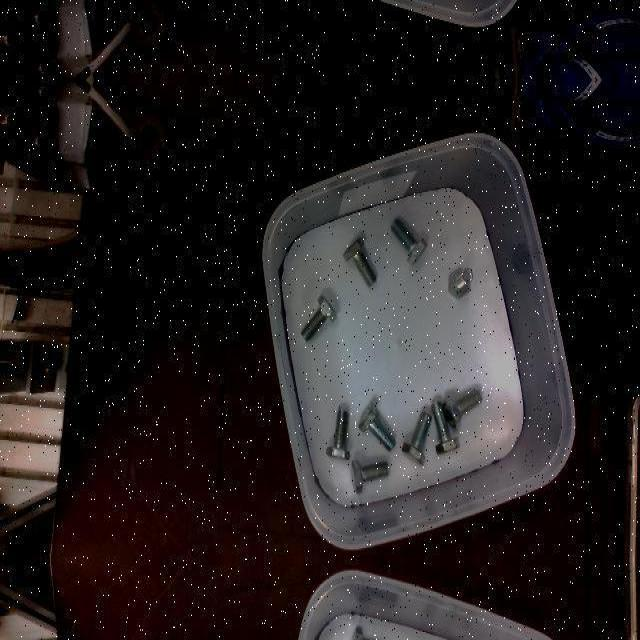screw: (358, 403, 396, 451), (391, 218, 428, 266), (343, 236, 377, 286), (401, 411, 432, 465), (300, 294, 336, 340), (442, 388, 482, 428), (431, 399, 460, 453), (350, 459, 390, 493), (325, 408, 349, 458), (448, 267, 473, 299), (350, 626, 390, 640)
